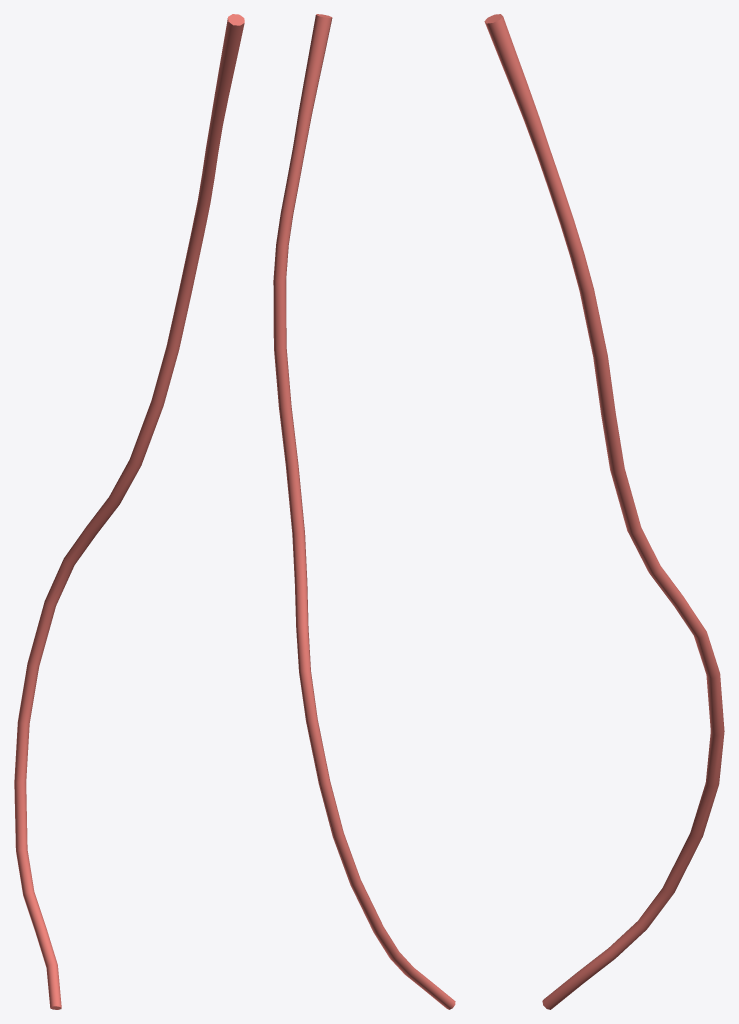
Rendered from artere-collaterale-ulnaire-superieure.glb.
3 renders of one model, left to right at view 1: azimuth 30°, elevation 25°; view 2: azimuth 150°, elevation 25°; view 3: azimuth 270°, elevation 25°, orthographic. The views are drawn at different scales.
Visible parts, largest first — view 1: artere-collaterale-ulnaire-superieure; view 2: artere-collaterale-ulnaire-superieure; view 3: artere-collaterale-ulnaire-superieure.
Part boxes in pixels (x1,y1,x2,y2): artere-collaterale-ulnaire-superieure: [14, 14, 244, 1009]; artere-collaterale-ulnaire-superieure: [273, 14, 455, 1009]; artere-collaterale-ulnaire-superieure: [484, 14, 724, 1009].
Size of the model in its own units: 0.0222 by 0.1199 by 0.0242.
